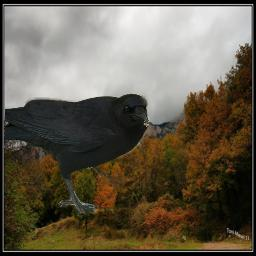Crow: (5, 93, 150, 214)
